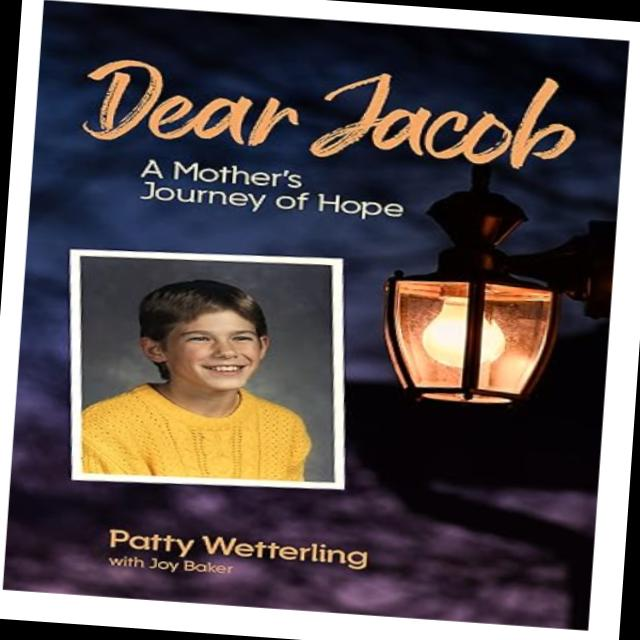titles-or-authors: (74, 42, 595, 238), (102, 519, 376, 572)
